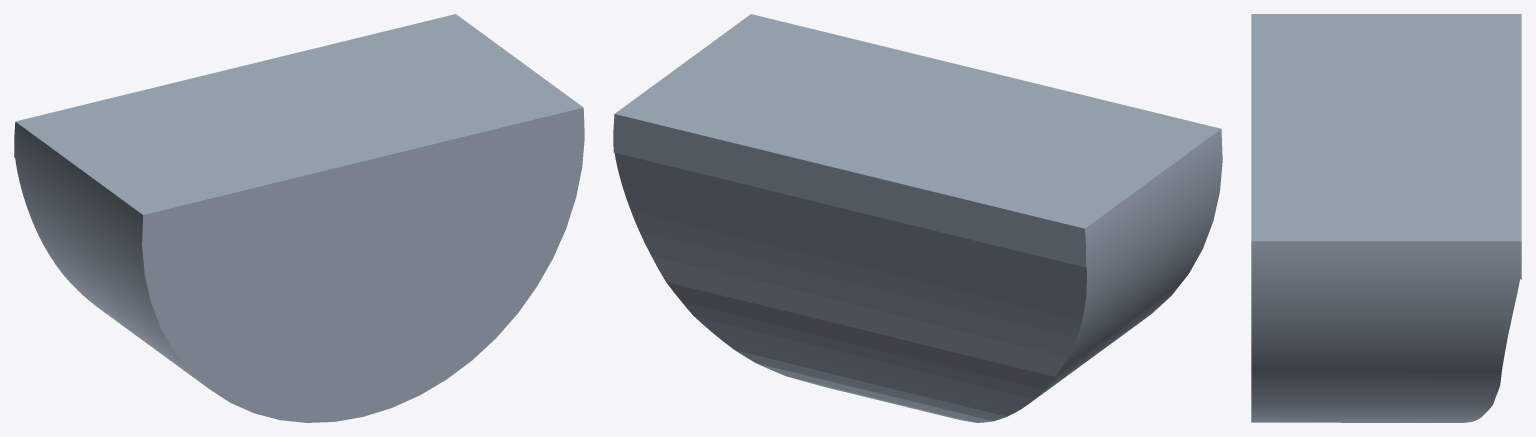
The model's file is bellyend.obj.
The picture shows the model from 3 angles, left to right: view 1: azimuth 30°, elevation 25°; view 2: azimuth 150°, elevation 25°; view 3: azimuth 270°, elevation 25°; orthographic projection. The views are drawn at different scales.
Visible parts, largest first — view 1: 1; view 2: 1; view 3: 1.
Boxes of the visible parts, bbox=[...] form: 1: bbox=[14, 14, 584, 422]; 1: bbox=[613, 14, 1222, 422]; 1: bbox=[1251, 14, 1521, 422].
Size of the model in its own units: 0.6998 by 0.3859 by 0.35.
